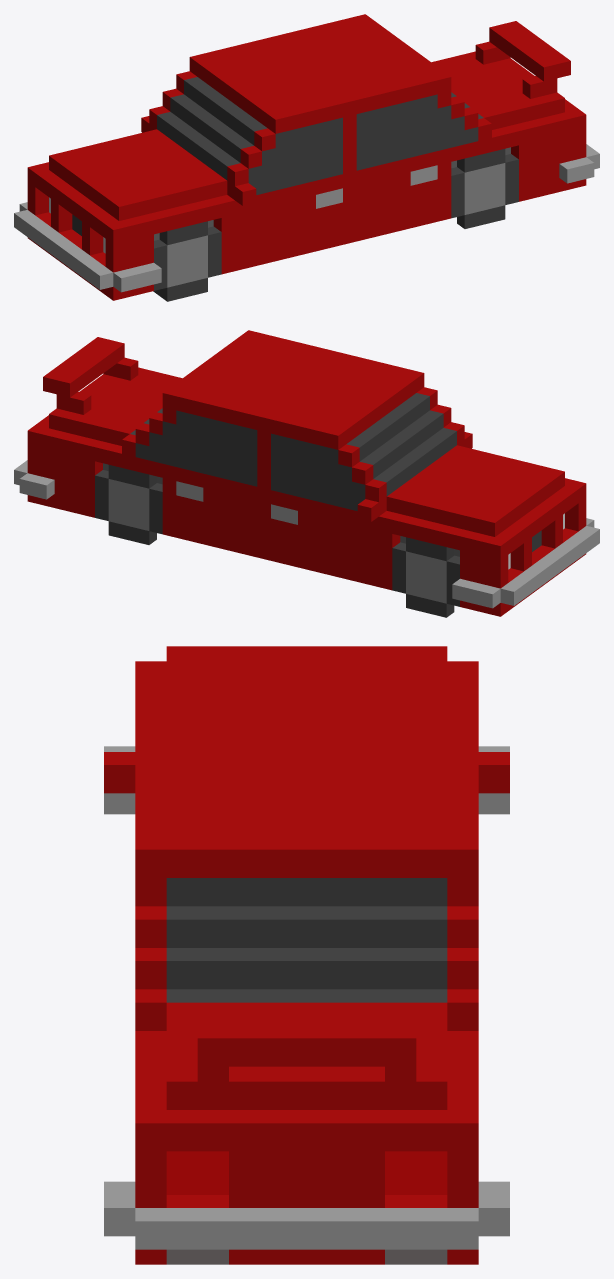
File: car_sedan.glb
3 views of the same model, one above another, from view 1: azimuth 30°, elevation 25°; view 2: azimuth 150°, elevation 25°; view 3: azimuth 270°, elevation 25° (orthographic). The views are drawn at different scales.
Visible parts, largest first — view 1: VoxTransform; view 2: VoxTransform; view 3: VoxTransform.
Part boxes in pixels (x1,y1,x2,y2): VoxTransform: [14, 14, 599, 301]; VoxTransform: [14, 330, 599, 617]; VoxTransform: [104, 646, 509, 1264].
Bounding box in the file's own units: 37 × 11 × 13.
